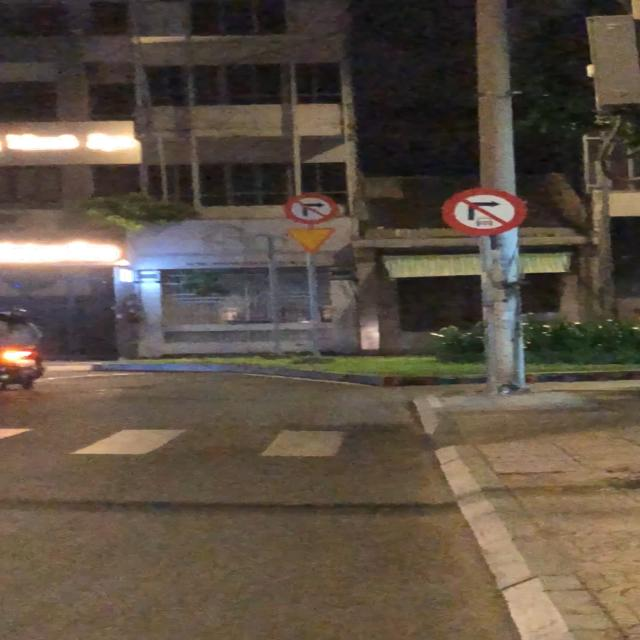Bien bao cam re phai: (284, 192, 340, 225)
Bien bao cam xe o to re phai: (439, 187, 526, 236)
Bien bao giao nhau voi duong uu tien: (284, 226, 342, 257)
